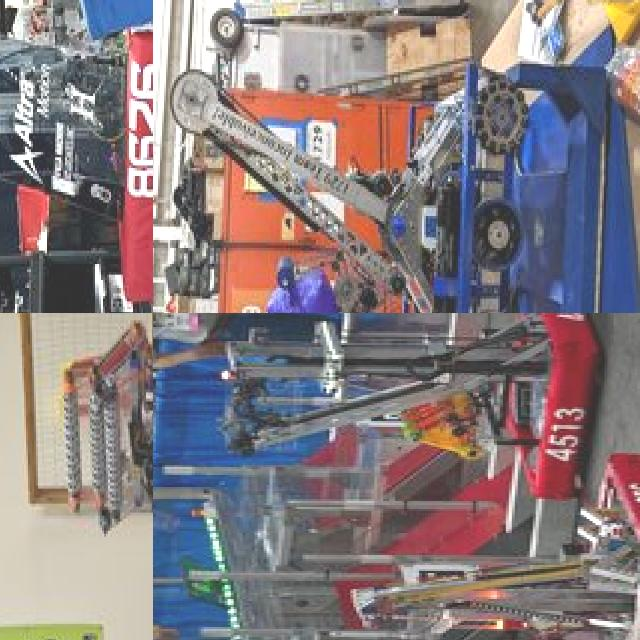FRC-Robots: (153, 0, 627, 313), (216, 313, 609, 491), (355, 423, 640, 640), (0, 313, 153, 640), (0, 0, 153, 313)
